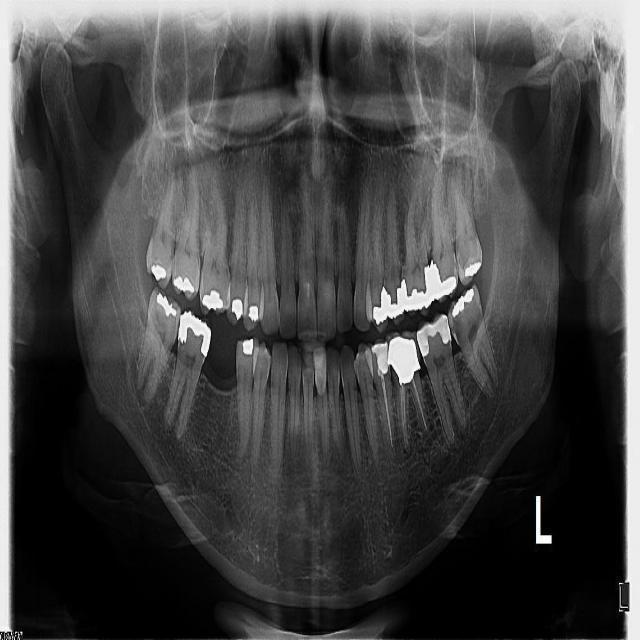Caries: (448, 317, 462, 341)
Crown: (385, 335, 421, 385)
Filling: (178, 309, 211, 358), (417, 313, 452, 358), (401, 267, 433, 311), (430, 259, 457, 300), (451, 289, 473, 319), (383, 287, 404, 318), (313, 347, 326, 394), (373, 288, 388, 326), (371, 343, 388, 375), (157, 292, 176, 316), (202, 290, 223, 310), (174, 275, 194, 292), (465, 261, 481, 277), (231, 299, 243, 320), (152, 264, 166, 281), (248, 305, 258, 321), (243, 338, 252, 354)
Missing teeth: (201, 329, 238, 394)
Root Canal Treatment: (380, 376, 393, 449), (411, 380, 427, 431), (400, 383, 408, 449)
